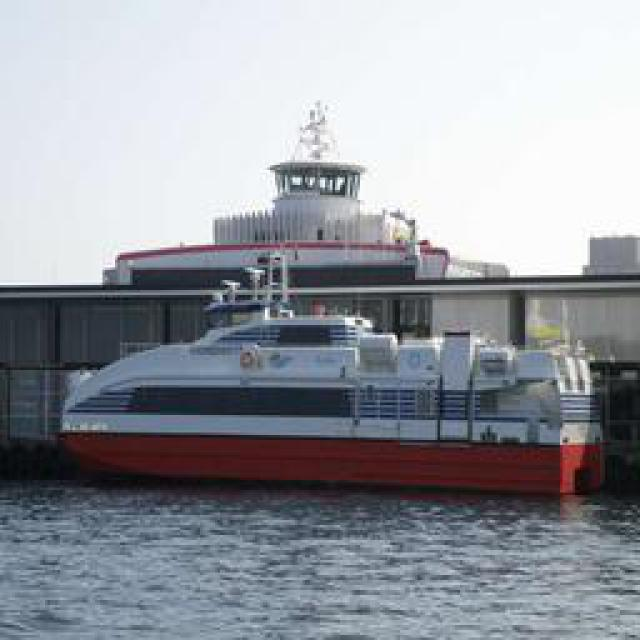Ship: (62, 259, 610, 502)
